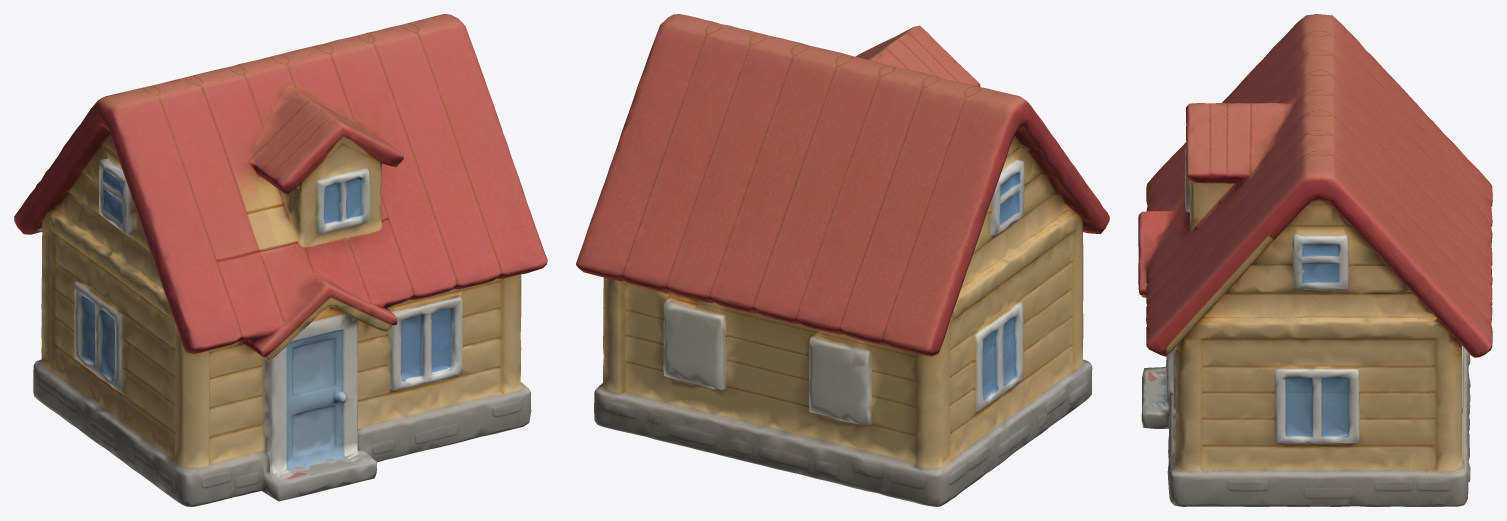
Rendered from P_TownHouse_h900.fbx.
3 renders of one model, left to right at view 1: azimuth 30°, elevation 25°; view 2: azimuth 150°, elevation 25°; view 3: azimuth 270°, elevation 25°, orthographic. The views are drawn at different scales.
Visible parts, largest first — view 1: texture_mapping; view 2: texture_mapping; view 3: texture_mapping.
Boxes of the visible parts, <box> form: texture_mapping: <box>14,14,547,506</box>; texture_mapping: <box>576,14,1109,506</box>; texture_mapping: <box>1138,14,1492,506</box>.
Bounding box in the file's own units: 0.9875 × 0.8909 × 0.9305.
Materials: 1 (1 with a texture image).
